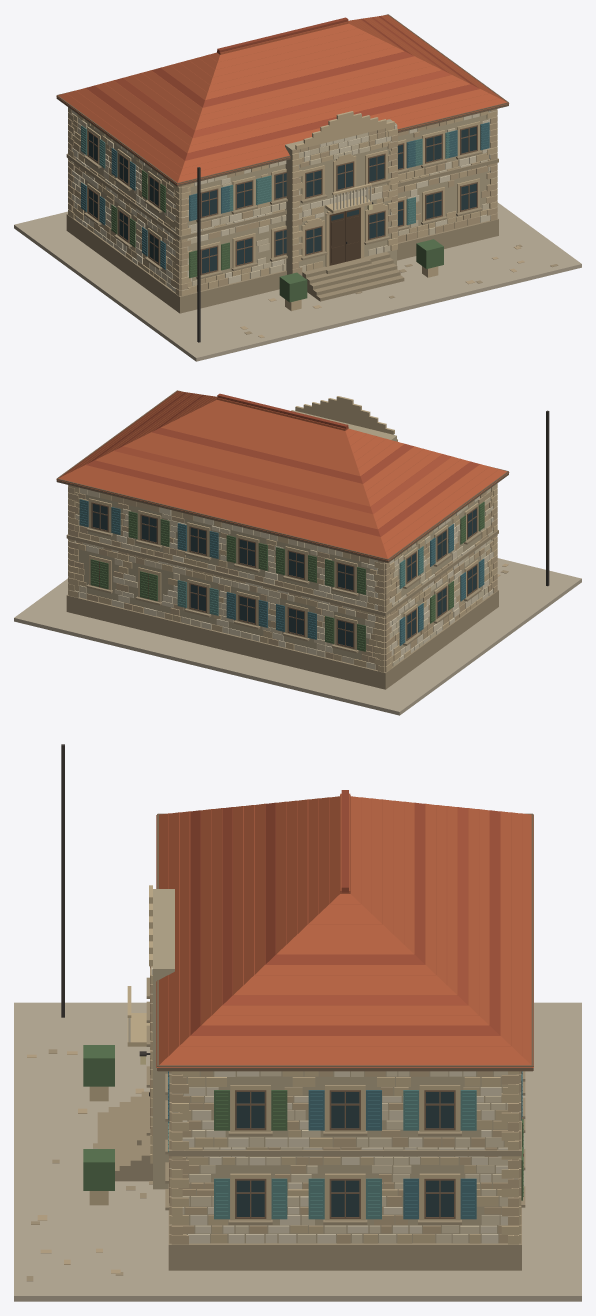
Rendered from belediye.glb.
3 views of the same model, one above another, from view 1: azimuth 30°, elevation 25°; view 2: azimuth 150°, elevation 25°; view 3: azimuth 270°, elevation 25° (orthographic). The views are drawn at different scales.
Visible parts, largest first — view 1: kiremit1, zemin, tas2, tas_koyu, harc, tas3, cam, ahsap, kiremit4, tas4, tas1, kiremit2 (+6 smaller); view 2: kiremit1, zemin, tas2, tas_koyu, harc, kiremit4, tas3, tas1, tas4, ahsap, cam, yesil_kepenk (+4 smaller); view 3: kiremit1, zemin, tas_koyu, tas2, harc, kiremit4, tas3, tas4, tas1, kiremit2, ahsap, cam (+5 smaller).
Boxes of the visible parts, x1,y1,x2,y2 form: kiremit1: (56, 15, 509, 184); zemin: (14, 202, 581, 361); tas2: (68, 109, 497, 310); tas_koyu: (66, 150, 558, 334); harc: (73, 111, 490, 290); tas3: (68, 107, 524, 337); cam: (89, 126, 476, 273); ahsap: (56, 14, 508, 275); kiremit4: (86, 16, 479, 160); tas4: (70, 110, 496, 292); tas1: (72, 117, 495, 287); kiremit2: (114, 17, 451, 137); kiremit1: (56, 391, 509, 560); zemin: (14, 558, 581, 715); tas2: (68, 396, 497, 672); tas_koyu: (66, 527, 508, 689); harc: (75, 410, 491, 666); kiremit4: (86, 392, 479, 536); tas3: (68, 485, 508, 670); tas1: (69, 488, 493, 666); tas4: (75, 496, 494, 669); ahsap: (56, 390, 508, 648); cam: (92, 504, 476, 647); yesil_kepenk: (90, 502, 484, 651); kiremit1: (156, 793, 533, 1067); zemin: (14, 1002, 581, 1301); tas_koyu: (26, 977, 525, 1281); tas2: (89, 885, 521, 1244); harc: (153, 889, 507, 1243); kiremit4: (190, 790, 500, 1035); tas3: (27, 966, 521, 1273); tas4: (128, 967, 517, 1243); tas1: (151, 966, 520, 1243); kiremit2: (222, 807, 468, 1005); ahsap: (150, 813, 533, 1218); cam: (236, 1092, 453, 1216).
Size of the model in its own units: 22 by 11.05 by 18.
